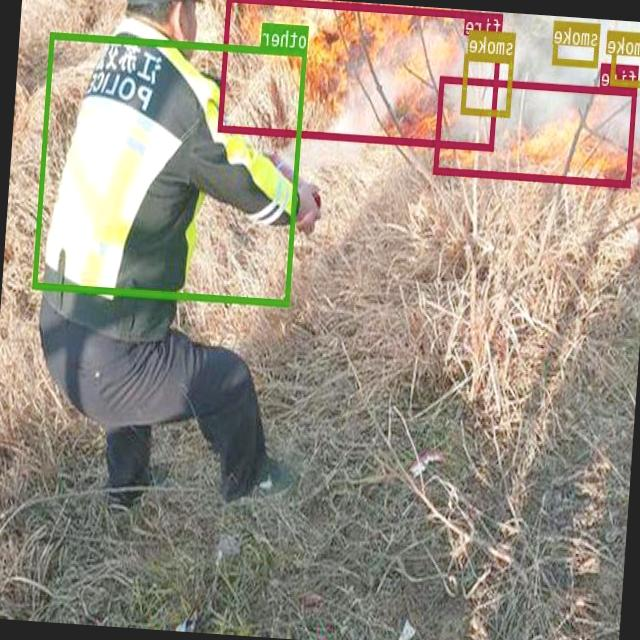fire: (218, 0, 503, 149), (434, 75, 637, 186)
smoke: (462, 52, 515, 115), (552, 19, 602, 66), (610, 30, 640, 87)
